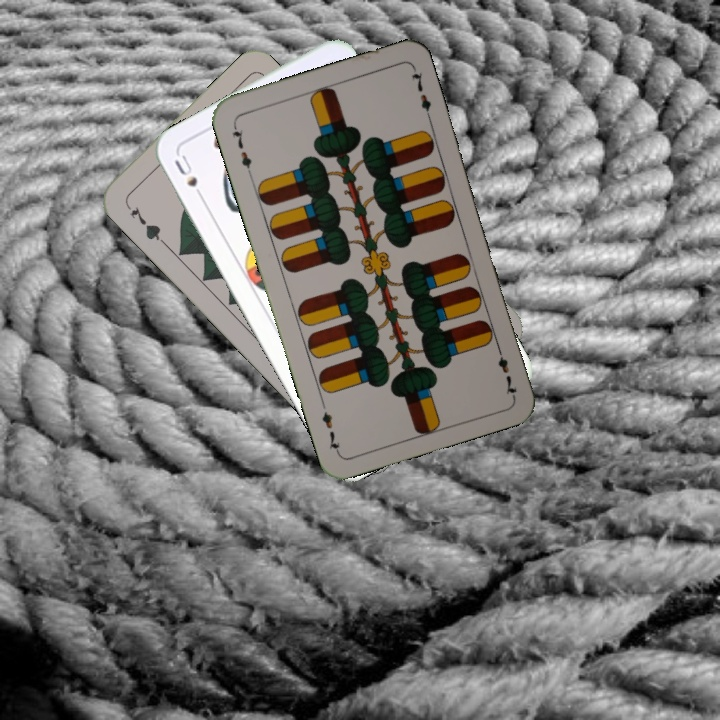E7: (492, 341, 520, 399), (228, 120, 255, 178)
G7: (122, 199, 168, 246)
SU: (170, 151, 208, 205)
